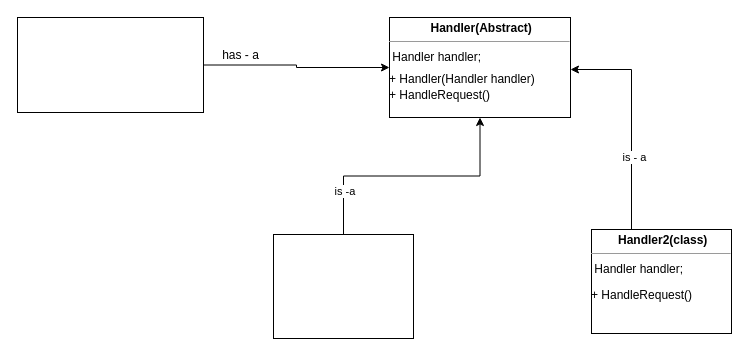
Some shapes in this 749 by 356 pixel diagram are drawn without their labels. The box of each missing label's shape, as (x1, y1, x2, y2) in pixels:
Client(class) Handler hander = new(Handler1(newHandler2(null))): (16, 16, 204, 112)
Handler1(class) Handler handler; + HandleRequest(): (272, 234, 414, 338)
